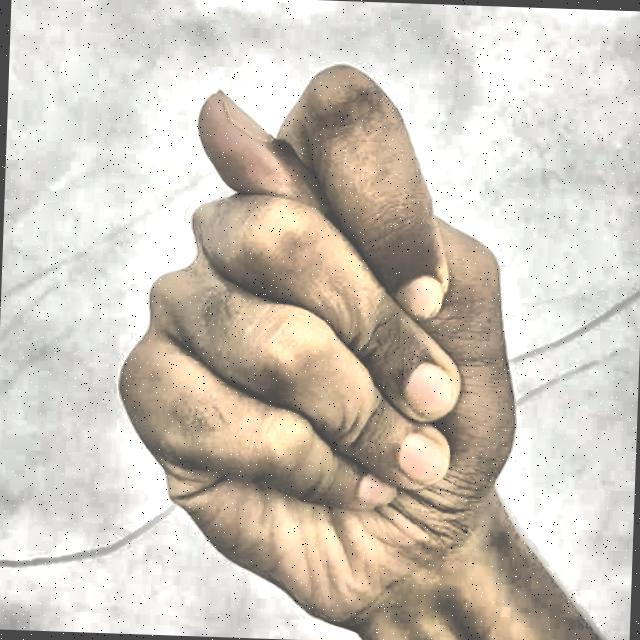Ta: (90, 36, 574, 640)
